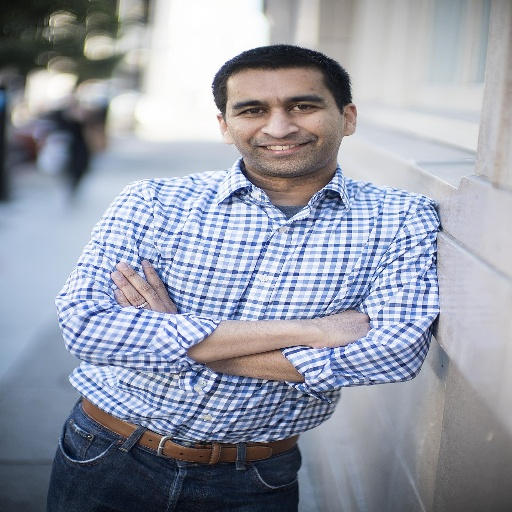hand: (112, 256, 174, 313), (307, 308, 374, 346)
